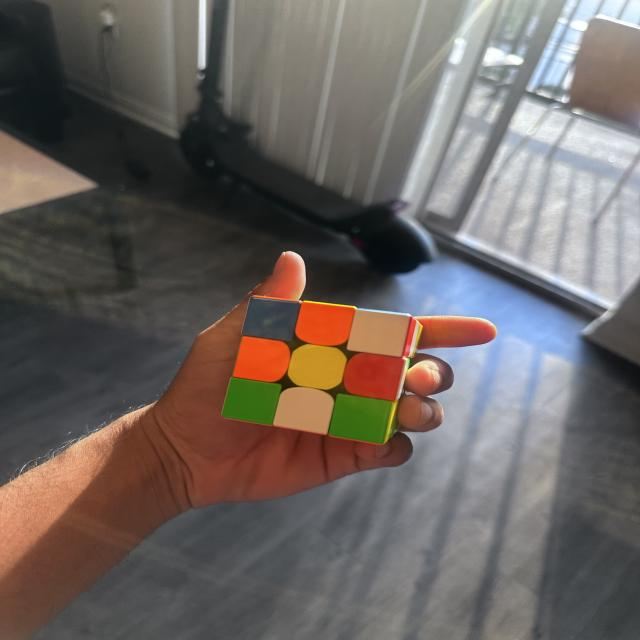sticker: (328, 392, 398, 446), (345, 306, 415, 359), (342, 351, 410, 403), (271, 384, 336, 436), (220, 376, 282, 426), (294, 299, 356, 347), (232, 335, 292, 383), (241, 295, 302, 342), (287, 344, 348, 391)
